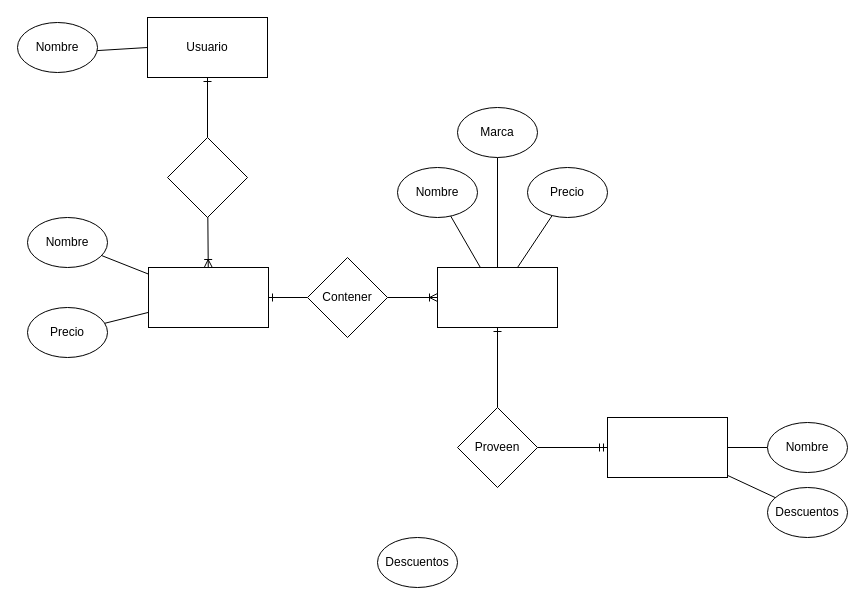
The diagram is 865 pixels wide and 605 high, and some of its shapes have lost their labels. Each missing label, with the centre of its shape:
Crear: the point at 207,177
Lista: the point at 208,297
Mercado: the point at 667,447
Producto: the point at 497,297
